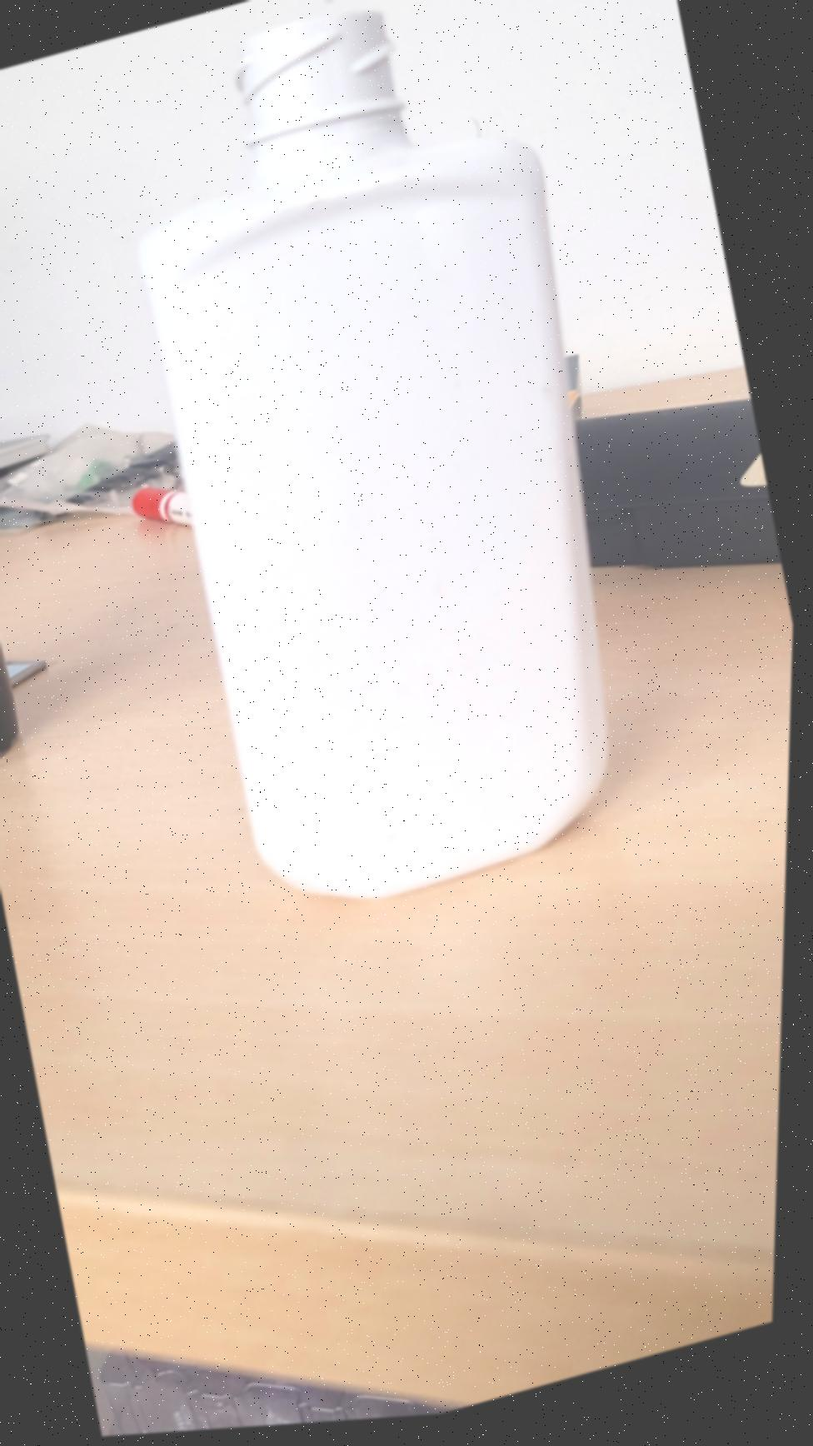bottle: (140, 12, 606, 897)
